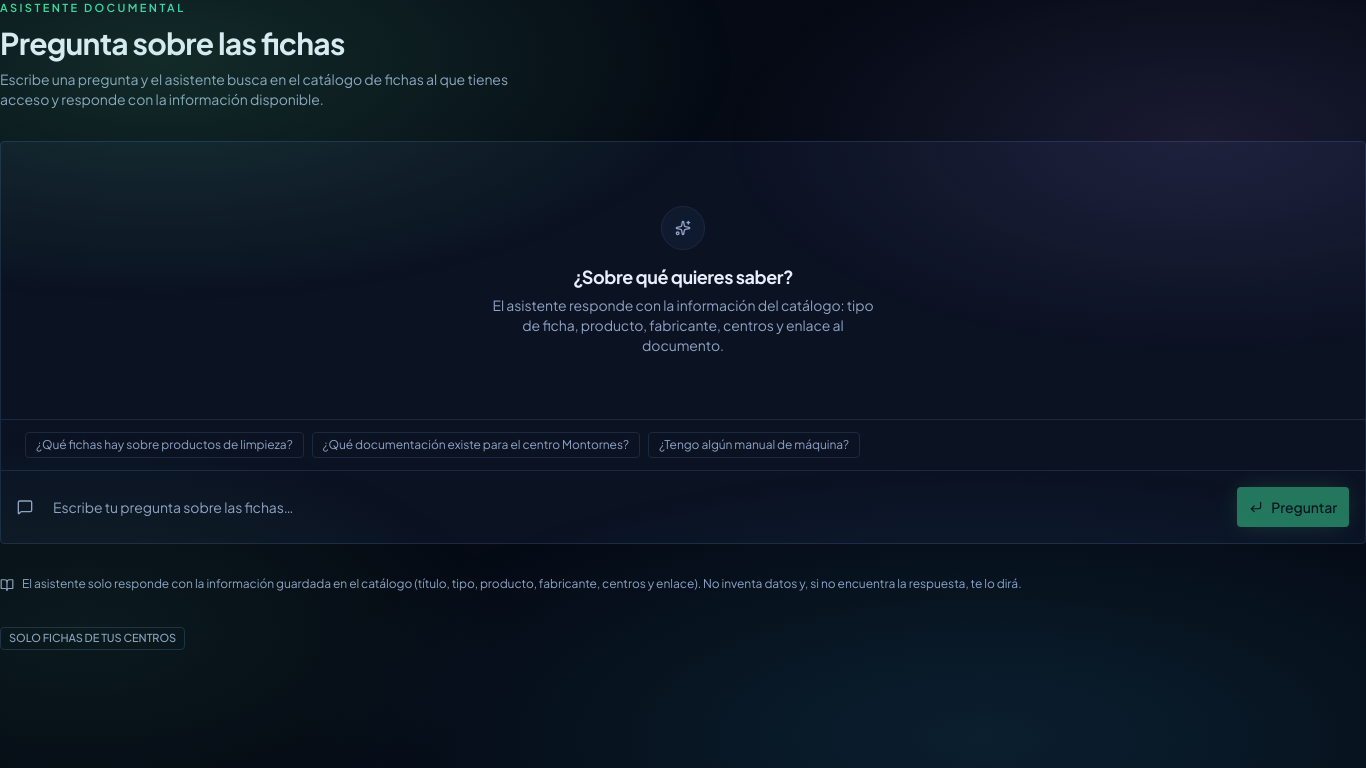
AsistenteSection › muestra el error si falta la clave de la IA
Step 1. Click the button "¿Tengo algún manual de máquina?" → (754, 445), box [648,432,860,458]
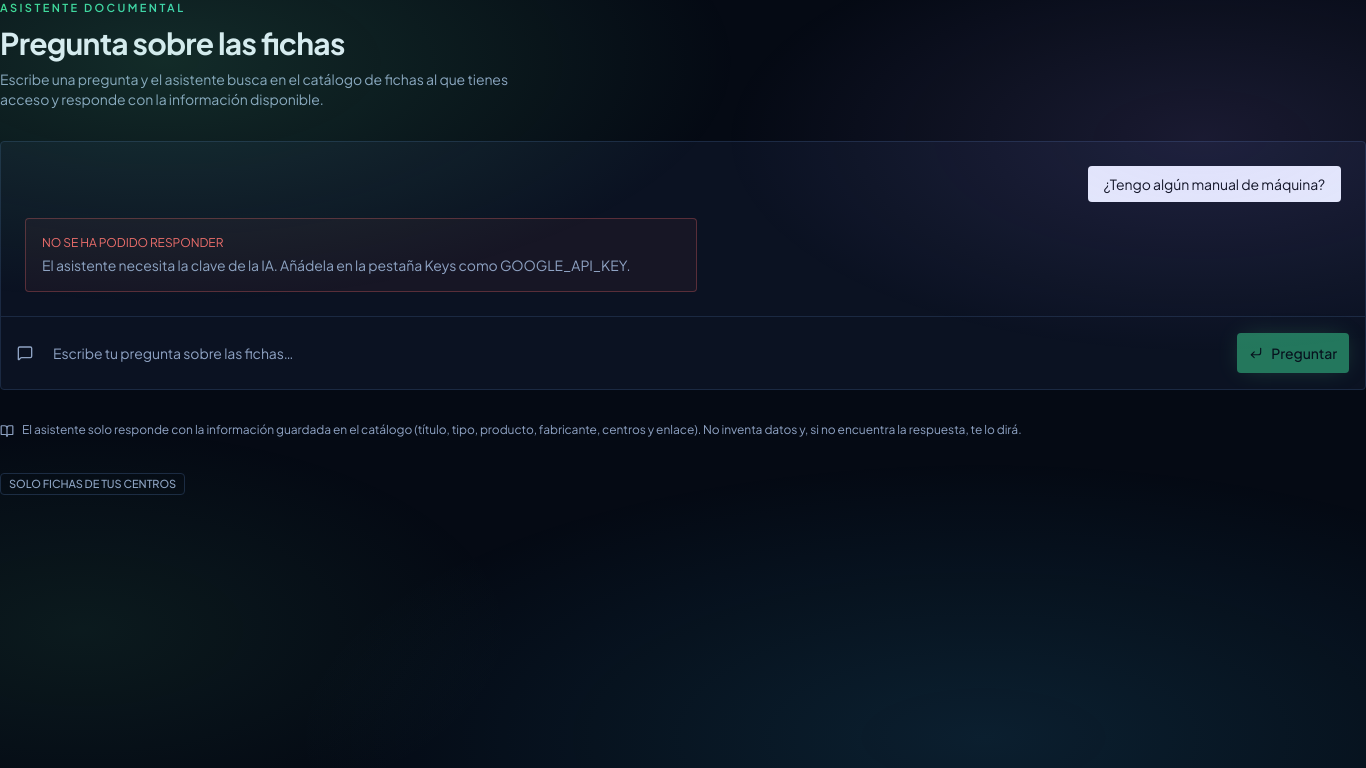
Expected: the text "No se ha podido responder" is shown, [42,234,223,250]
Expected: the text "GOOGLE_API_KEY" is shown, [42,256,630,274]
